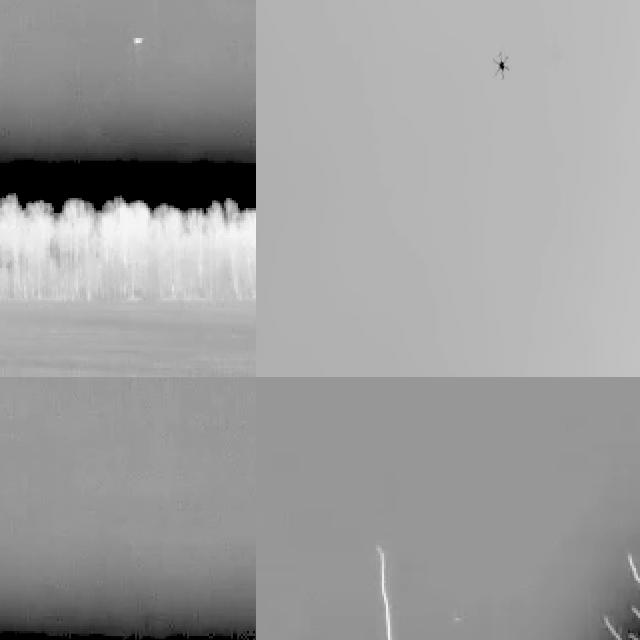0: (438, 608, 468, 636)
1: (123, 28, 147, 53)
drone: (487, 46, 514, 82)
